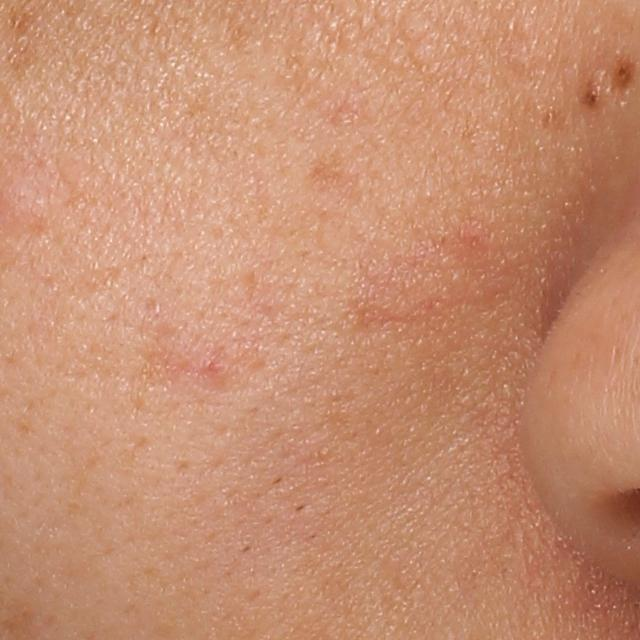nevus: (575, 77, 609, 116), (609, 51, 638, 94)
